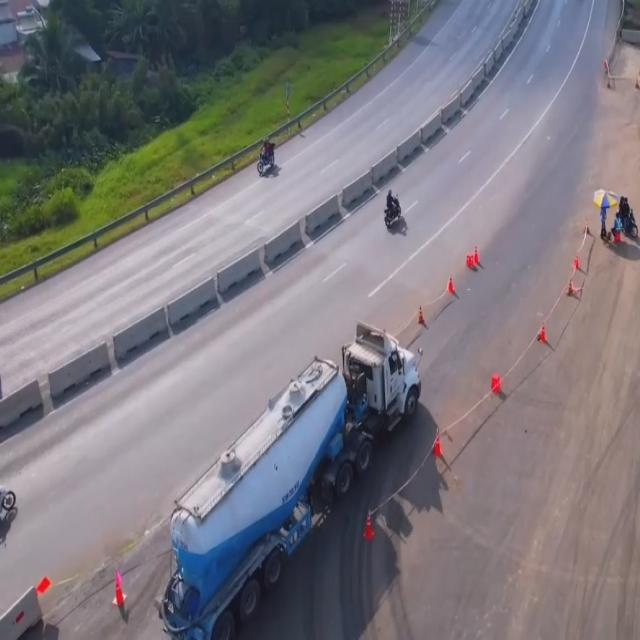motorbike: (383, 186, 408, 234), (259, 136, 281, 179)
truck: (150, 324, 428, 640)
